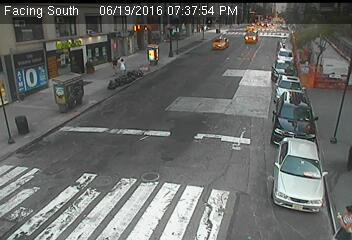neg: (149, 71, 175, 105), (15, 117, 37, 146), (63, 88, 81, 113), (84, 58, 100, 79)
pos: (334, 200, 351, 239), (117, 54, 133, 75), (102, 53, 117, 73)
